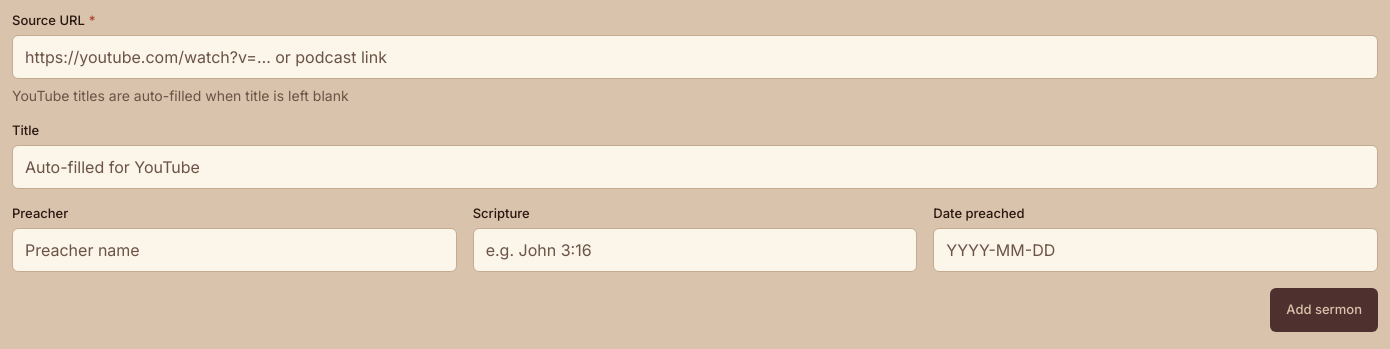
Scenario: SermonForm — create mode › shows validation error for empty URL on submit
Click the button "Add sermon" at (1324, 310), box [1270, 288, 1378, 332]
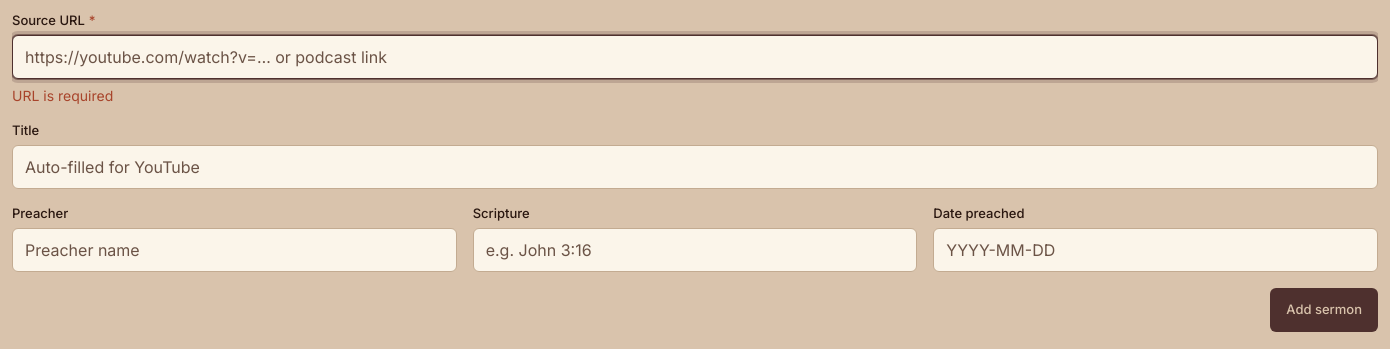
Expected: the text "URL is required" is shown, [12, 87, 113, 104]
